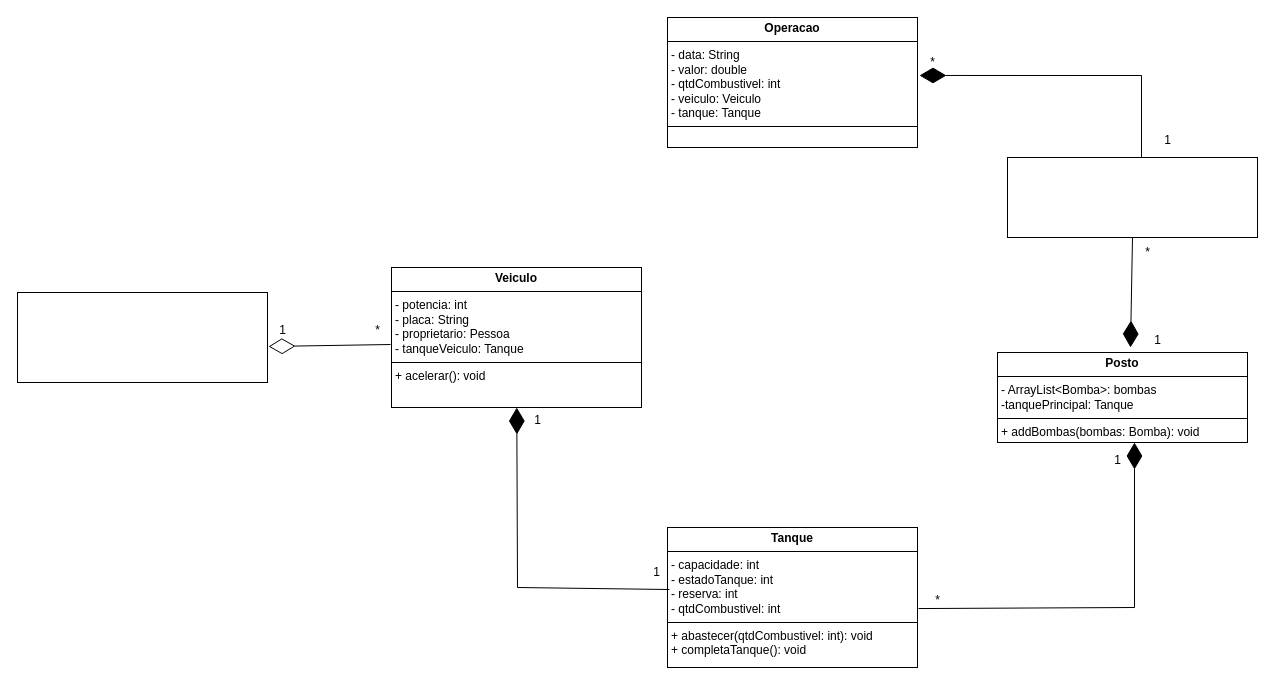
Image size: 1275x685. Some labels were removed from this diagram. Here are the shapes that lost their labels. From the top down, the centre of each, then its label:
At (x=1132, y=197): "Bomba - ArrayList<Operacao>: operacoes + addOperacao(operacao: Operacao): void".
At (x=142, y=337): "Pessoa - nome: String - cpf: String".
